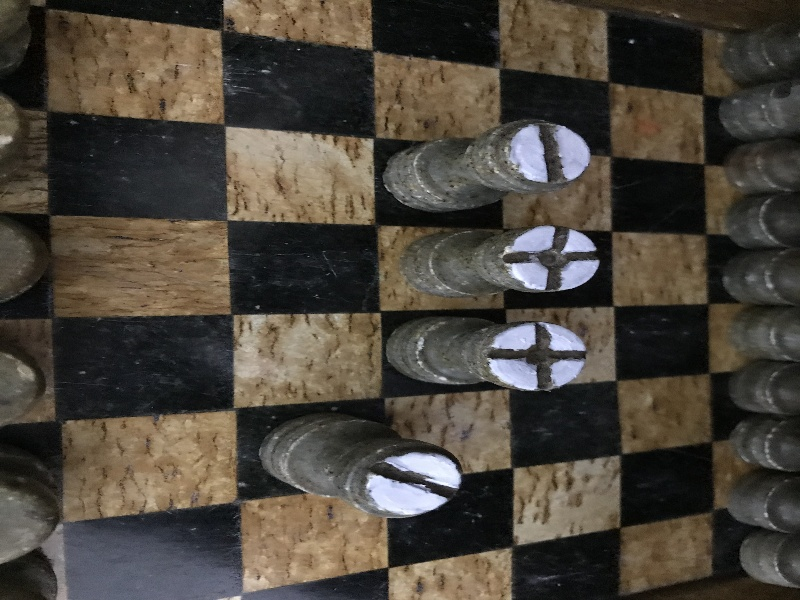WhiteBishop: (386, 318, 586, 387), (402, 229, 600, 297)
WhiteRook: (260, 411, 462, 519), (381, 120, 590, 211)
